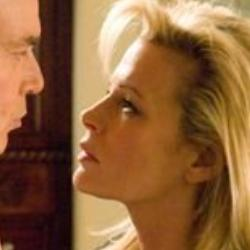face: (76, 2, 250, 225)
